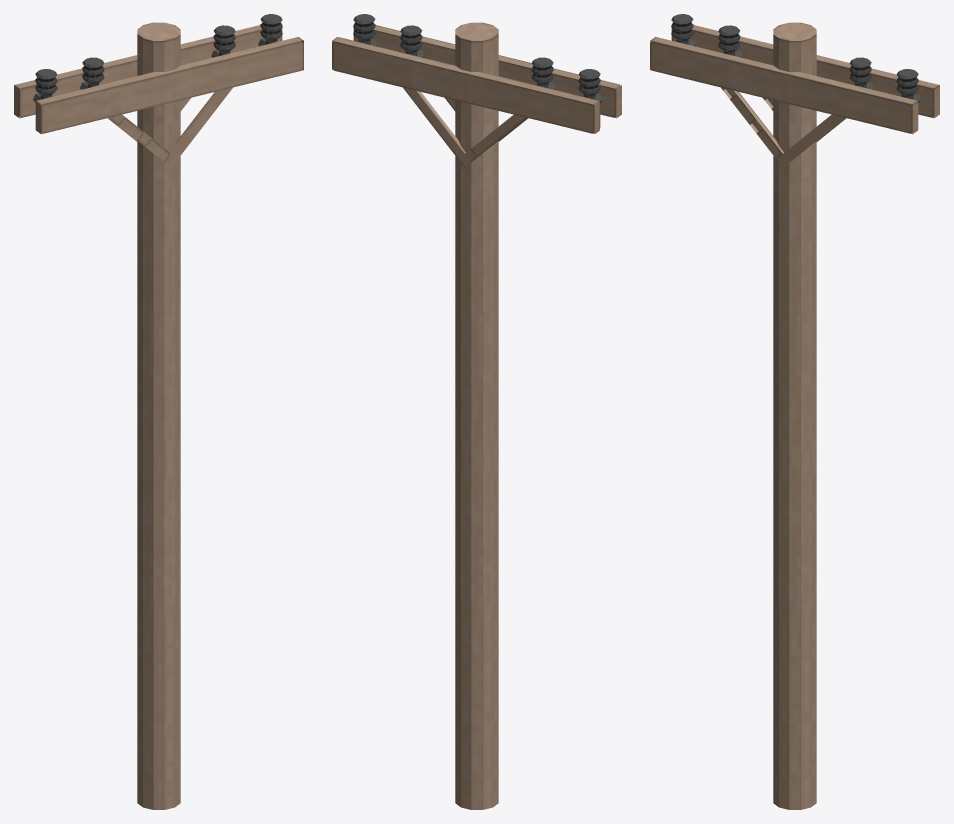
The model's file is powerpole.fbx.
3 views of the same model, side by side, from view 1: azimuth 30°, elevation 25°; view 2: azimuth 150°, elevation 25°; view 3: azimuth 330°, elevation 25° (orthographic).
Visible parts, largest first — view 1: pole, support, right connector 1, right connector 2, left connector 1, left connector 2; view 2: pole, support, right connector 1, right connector 2, left connector 1, left connector 2; view 3: pole, support, left connector 1, left connector 2, right connector 1, right connector 2.
Part boxes in pixels (box(x1,y1,x2,y2)): pole: box(137, 22, 180, 809); support: box(14, 25, 303, 167); right connector 1: box(82, 57, 104, 87); right connector 2: box(35, 69, 57, 99); left connector 1: box(213, 25, 235, 55); left connector 2: box(260, 14, 282, 44); pole: box(455, 22, 498, 809); support: box(332, 25, 621, 167); right connector 1: box(531, 57, 553, 87); right connector 2: box(578, 69, 600, 99); left connector 1: box(400, 25, 422, 55); left connector 2: box(353, 14, 375, 44); pole: box(773, 22, 816, 809); support: box(650, 25, 939, 167); left connector 1: box(849, 57, 871, 87); left connector 2: box(896, 69, 918, 99); right connector 1: box(718, 25, 740, 55); right connector 2: box(671, 14, 693, 44).
Size of the model in its own units: 175 by 490 by 31.25.
Materials: 4 (4 with a texture image).
